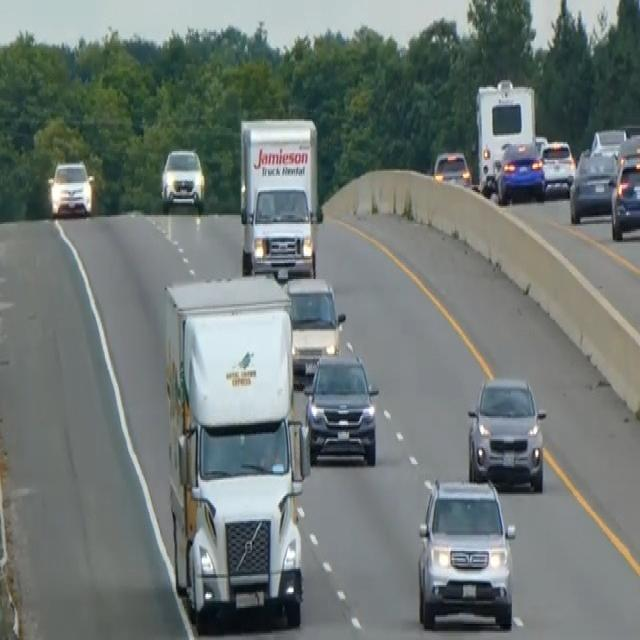car: (415, 475, 516, 629), (465, 373, 547, 491), (303, 348, 379, 466), (284, 274, 345, 378), (151, 130, 215, 224), (568, 146, 618, 222), (496, 138, 545, 202), (160, 146, 205, 212), (49, 156, 93, 217), (610, 151, 639, 238), (540, 137, 575, 195), (432, 148, 471, 186), (589, 126, 626, 158)
lorry: (161, 272, 312, 629)
